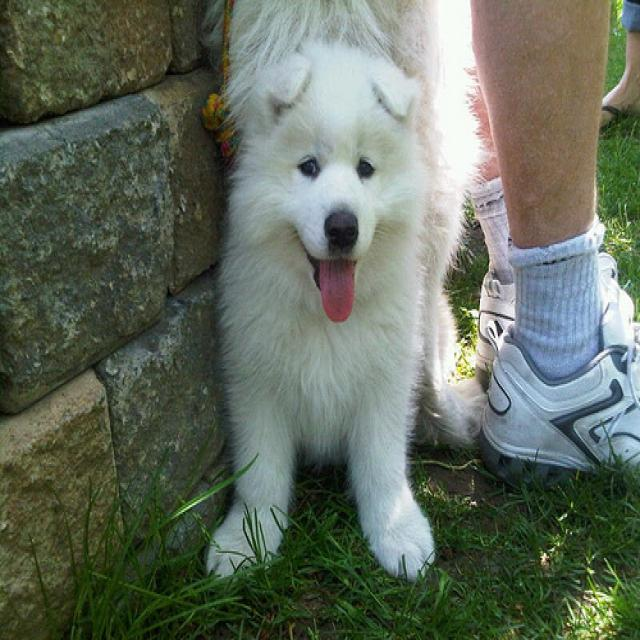dog-samoyed: (193, 2, 499, 592)
